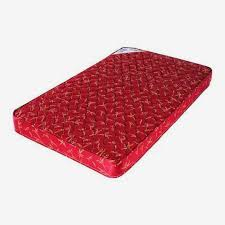bed-matress: (13, 47, 212, 179)
